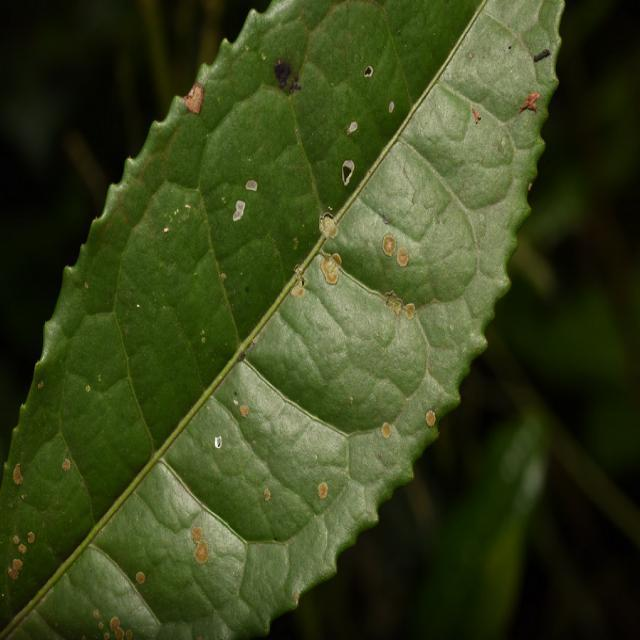Tea algae leaf spot: (149, 60, 509, 606)
